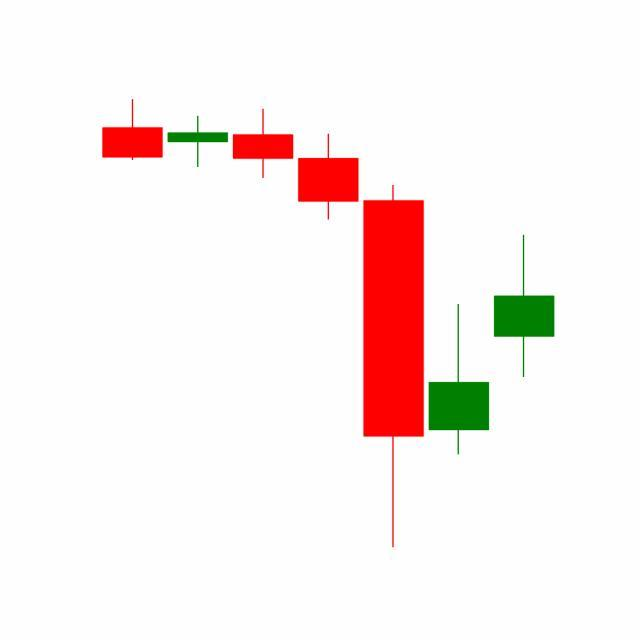Hikkake Pattern: (229, 105, 555, 549)
